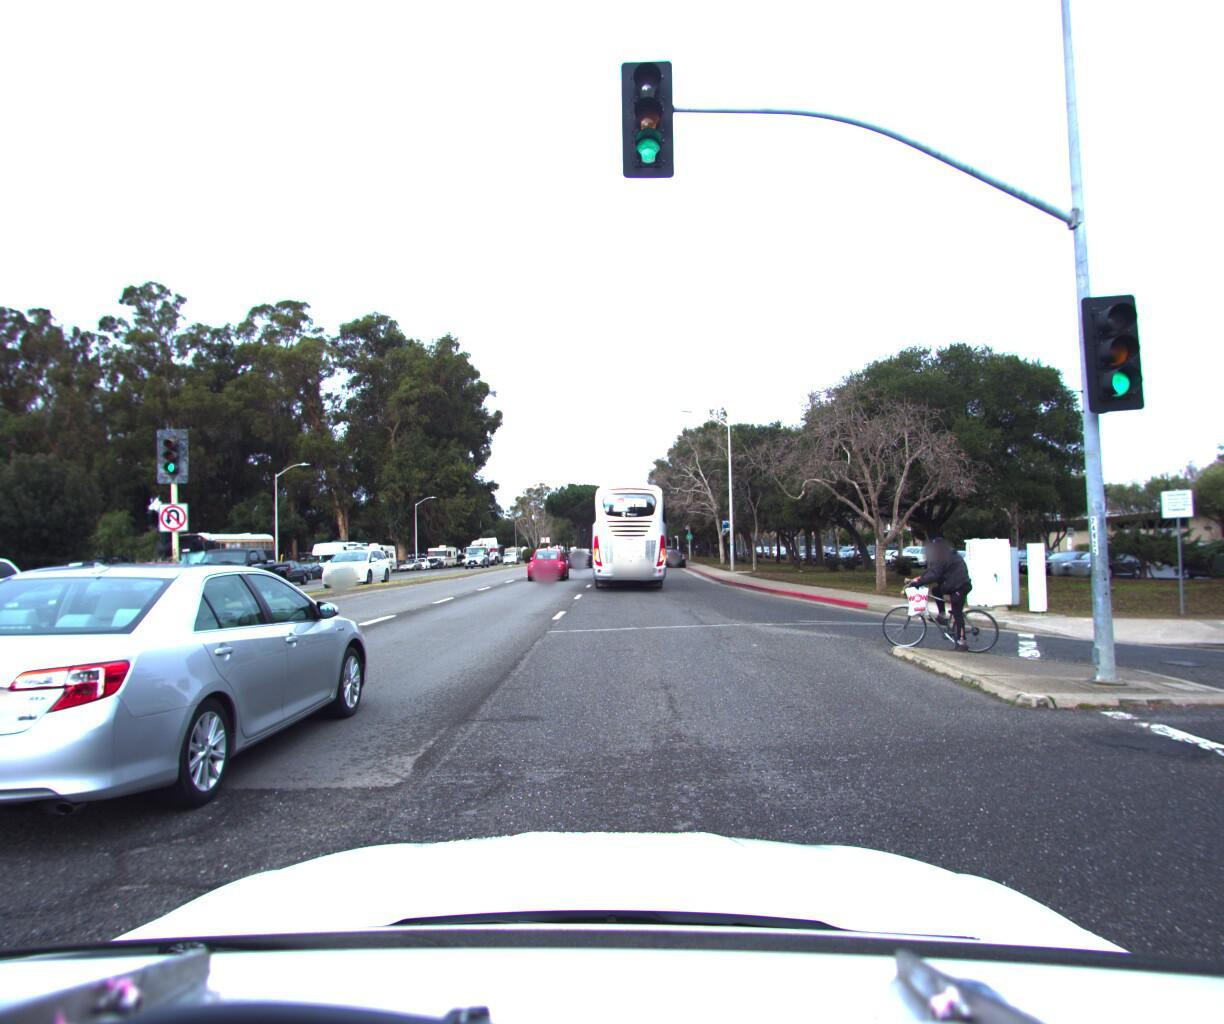bicycle: (864, 520, 991, 651)
bus: (583, 475, 676, 592), (163, 522, 279, 590)
car: (0, 544, 391, 858), (0, 545, 185, 631), (161, 539, 300, 603), (0, 557, 118, 604), (99, 555, 189, 596), (0, 549, 37, 644), (313, 540, 395, 582), (523, 542, 571, 579), (566, 541, 594, 563), (657, 540, 685, 561), (460, 543, 487, 563)
other_vehicle: (306, 531, 372, 577), (348, 535, 397, 570)
